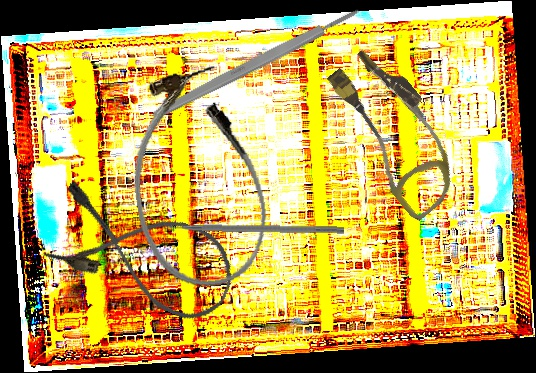Cannula: (117, 60, 277, 298), (39, 175, 246, 331), (310, 39, 481, 224)
Chopper: (157, 213, 345, 234)
Scalpel Handle: (149, 5, 363, 122)
